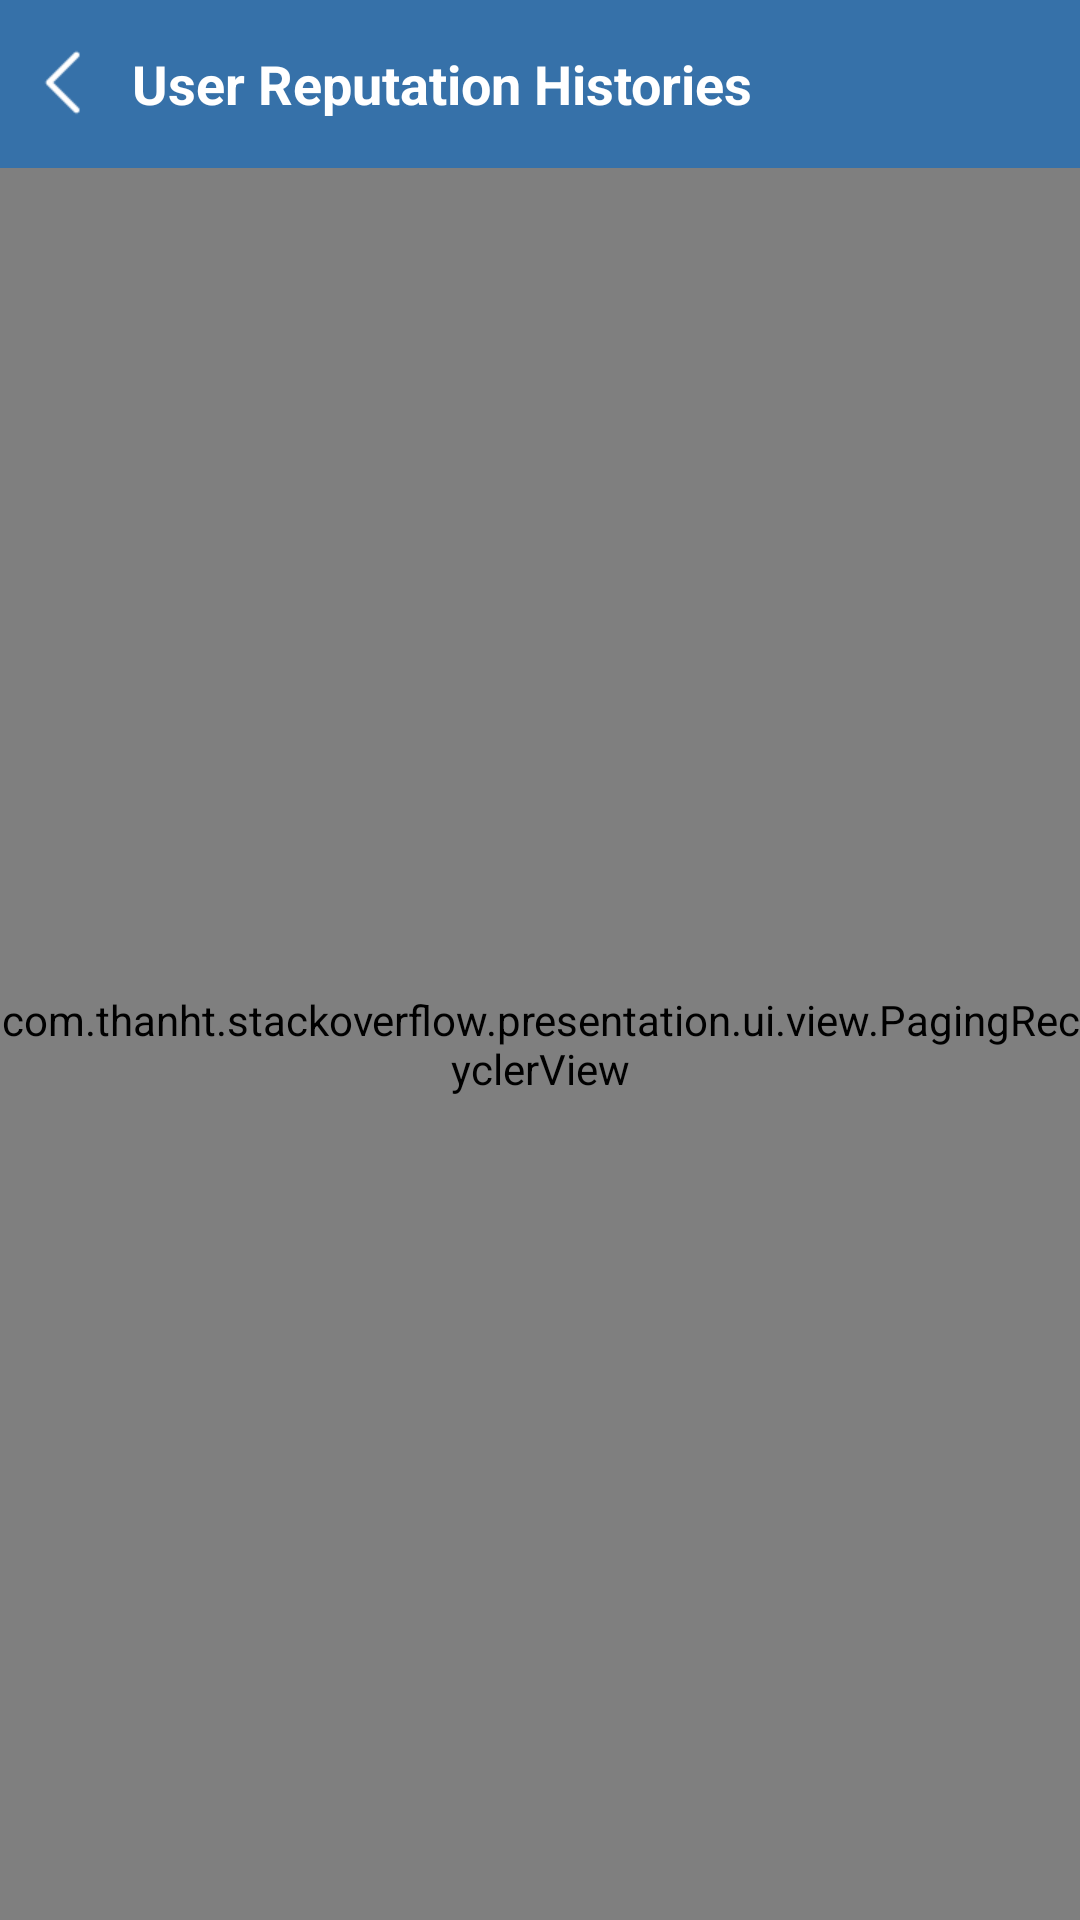

Icon bounding boxes for this 1080px×1920px phone screenshot, format (x1, y1, x2, y2):
back: (45, 51, 80, 114)
